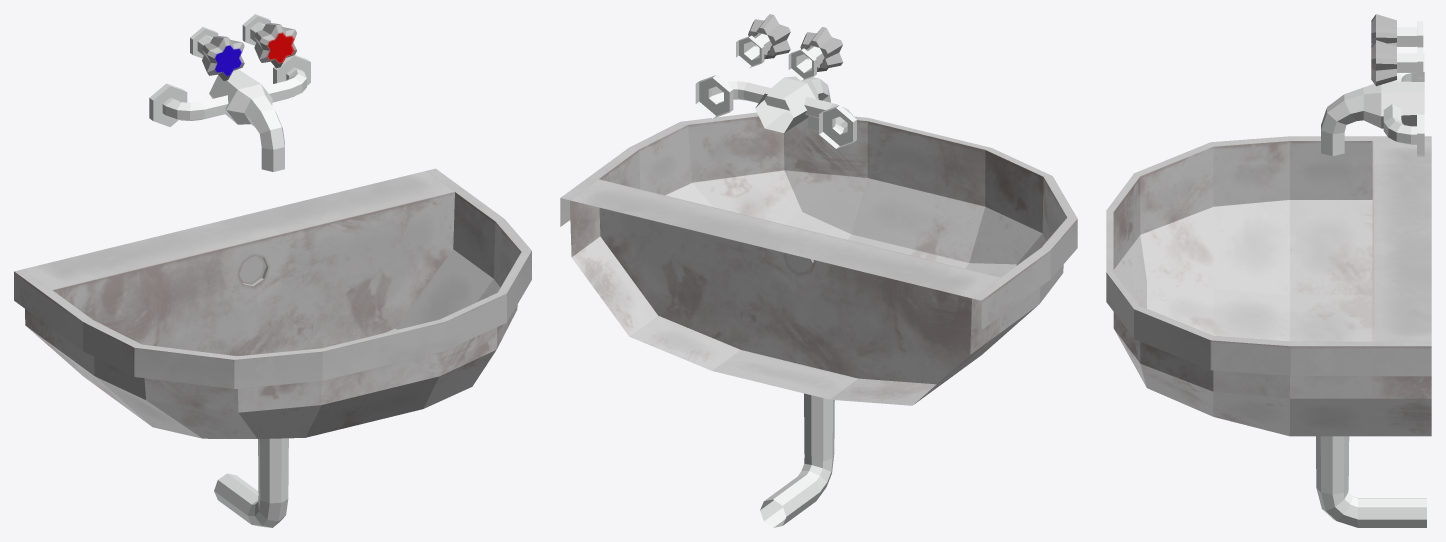
The model's file is Model_Zlew_Anona.fbx.
3 renders of one model, left to right at view 1: azimuth 30°, elevation 25°; view 2: azimuth 150°, elevation 25°; view 3: azimuth 270°, elevation 25°, orthographic. The views are drawn at different scales.
Parts seen in each view (by area): view 1: Zlew_Anona; view 2: Zlew_Anona; view 3: Zlew_Anona.
Part boxes in pixels (left/top/right/bottom): Zlew_Anona: left=14, top=14, right=531, bottom=527; Zlew_Anona: left=560, top=14, right=1077, bottom=527; Zlew_Anona: left=1106, top=14, right=1431, bottom=527.
Bounding box in the file's own units: 85.61 × 94.91 × 56.03.
